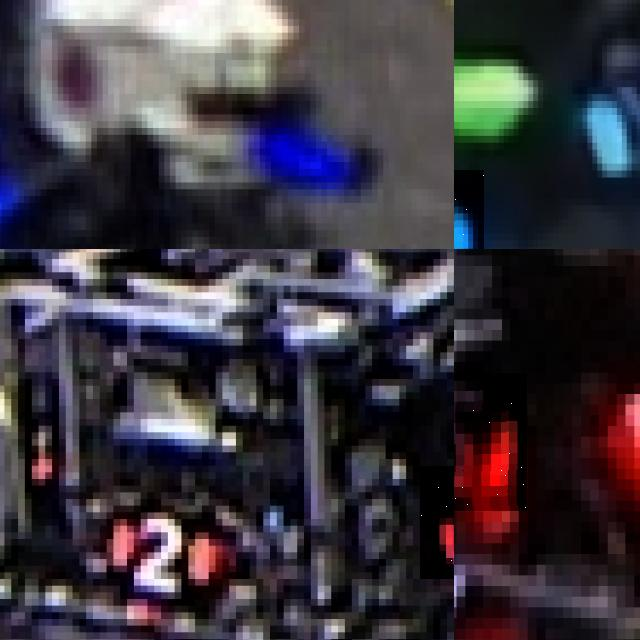R2: (96, 489, 219, 602), (420, 465, 454, 579)
R5: (454, 372, 527, 511)
